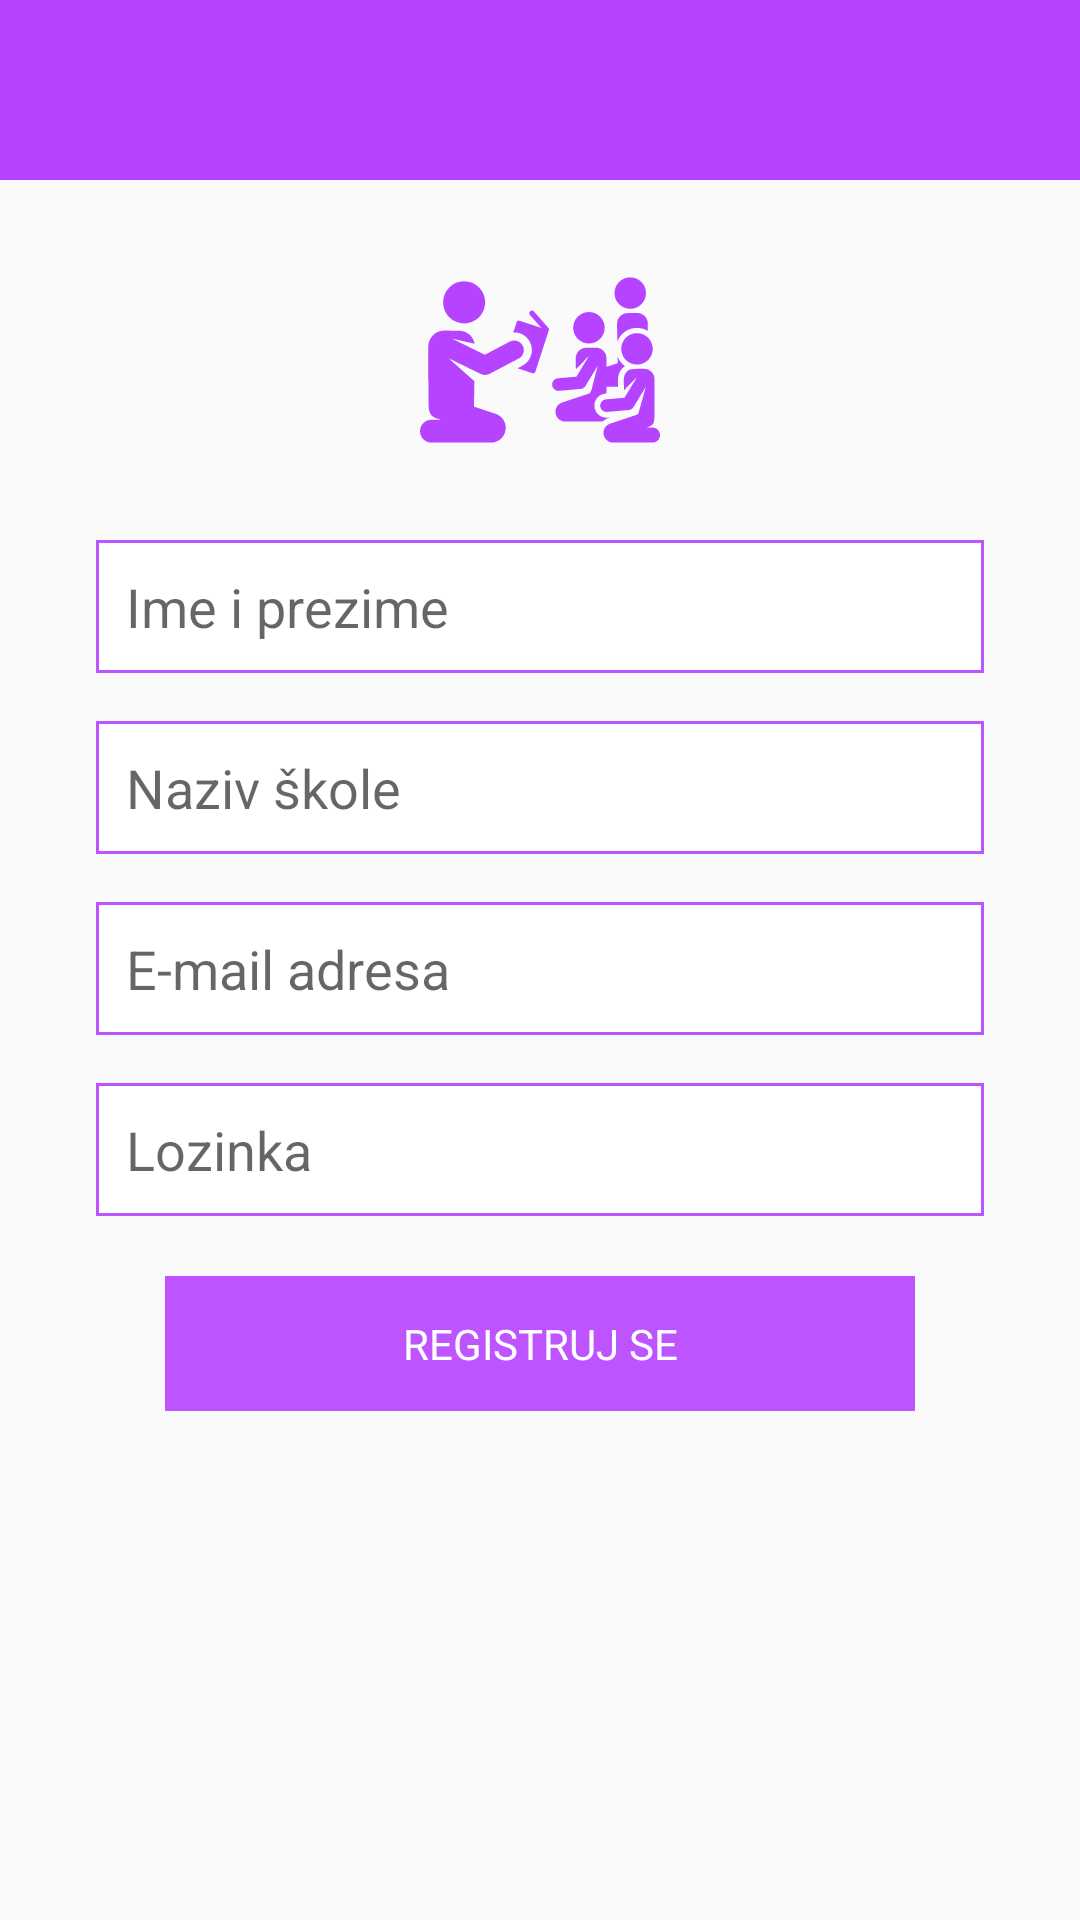

Icons on this 1080*1920 Android screen, each with the point to tap as (x=x, y=y):
teaching: (x=540, y=360)
